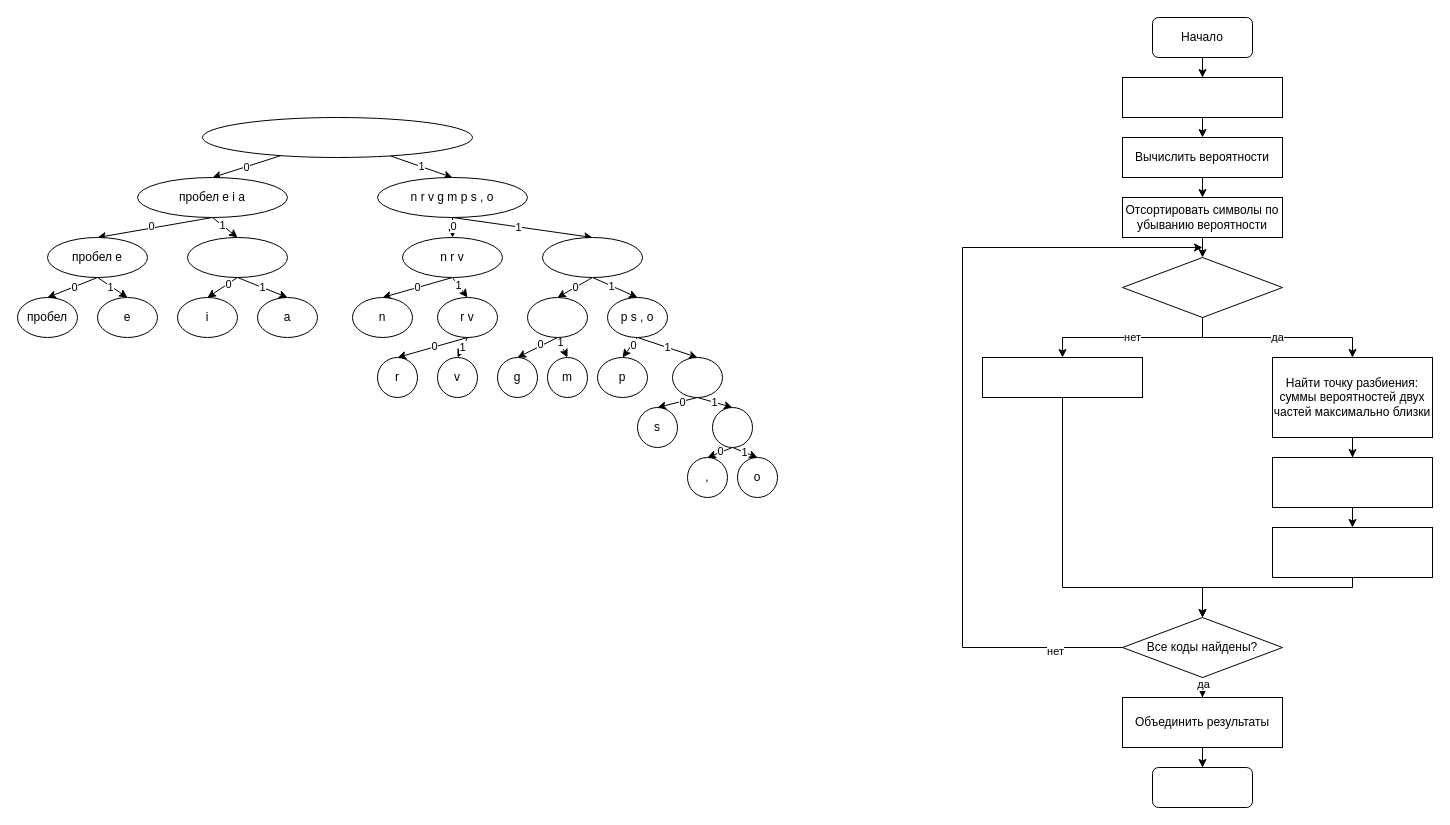
Image size: 1450x825. Some labels were removed from this diagram. The shapes that lost their labels are listed below. From the top down, each one's box as (x1, y1, x2, y2) in pixels, then its label:
(1122, 76, 1282, 118): Подсчитать частоты символов
(202, 116, 472, 158): пробел e i a n r v g m p s , o
(186, 236, 288, 278): i a
(542, 236, 642, 278): g m p s , o
(1122, 256, 1282, 318): Группа содержит более 1 символа?
(526, 296, 588, 338): g m
(672, 356, 722, 398): s , o
(982, 356, 1142, 398): Назначить символу текущий код (лист дерева)
(712, 406, 752, 448): , o
(1272, 456, 1432, 508): Разделить группу на левую и правую
(1272, 526, 1432, 578): К левым кодам добавить '0' К правым — '1'
(1152, 766, 1252, 808): Конец
